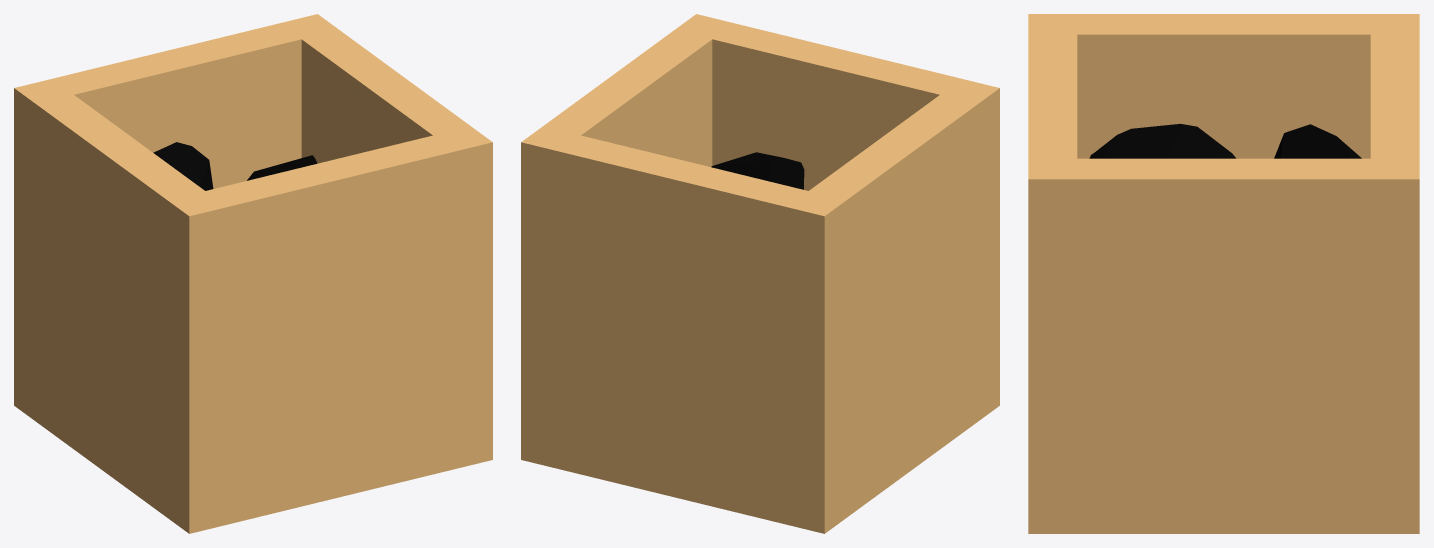
File: coal_02.fbx
The picture shows the model from 3 angles, left to right: view 1: azimuth 30°, elevation 25°; view 2: azimuth 150°, elevation 25°; view 3: azimuth 270°, elevation 25°; orthographic projection. The views are drawn at different scales.
Visible parts, largest first — view 1: coal; view 2: coal; view 3: coal.
Boxes of the visible parts, left/top/right/bottom form: coal: left=14, top=14, right=492, bottom=533; coal: left=521, top=14, right=999, bottom=533; coal: left=1028, top=14, right=1419, bottom=533.
Bounding box in the file's own units: 1 × 1 × 1.
Materials: 1 (1 with a texture image).
